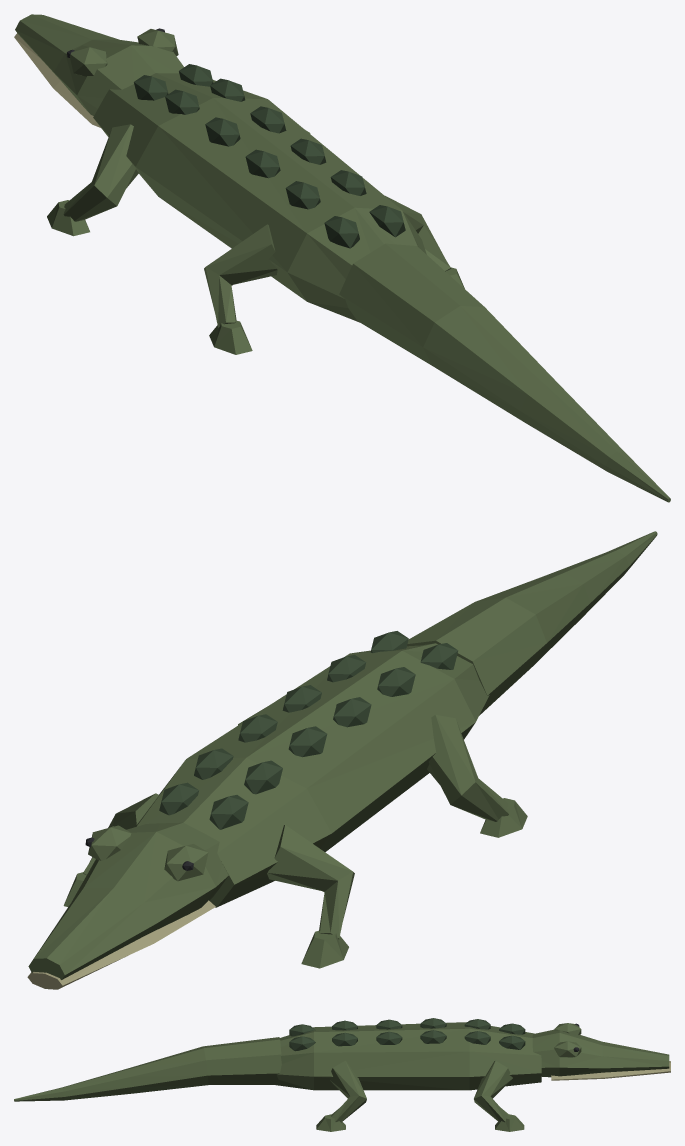
Rendered from crocodile.fbx.
3 views of the same model, one above another, from view 1: azimuth 30°, elevation 25°; view 2: azimuth 150°, elevation 25°; view 3: azimuth 270°, elevation 25° (orthographic). The views are drawn at different scales.
Parts seen in each view (by area): view 1: crocodile; view 2: crocodile; view 3: crocodile.
Part boxes in pixels (bbox=[...]): crocodile: bbox=[14, 14, 670, 502]; crocodile: bbox=[27, 531, 657, 989]; crocodile: bbox=[14, 1018, 670, 1131].
Size of the model in its own units: 0.966 by 0.5 by 4.
